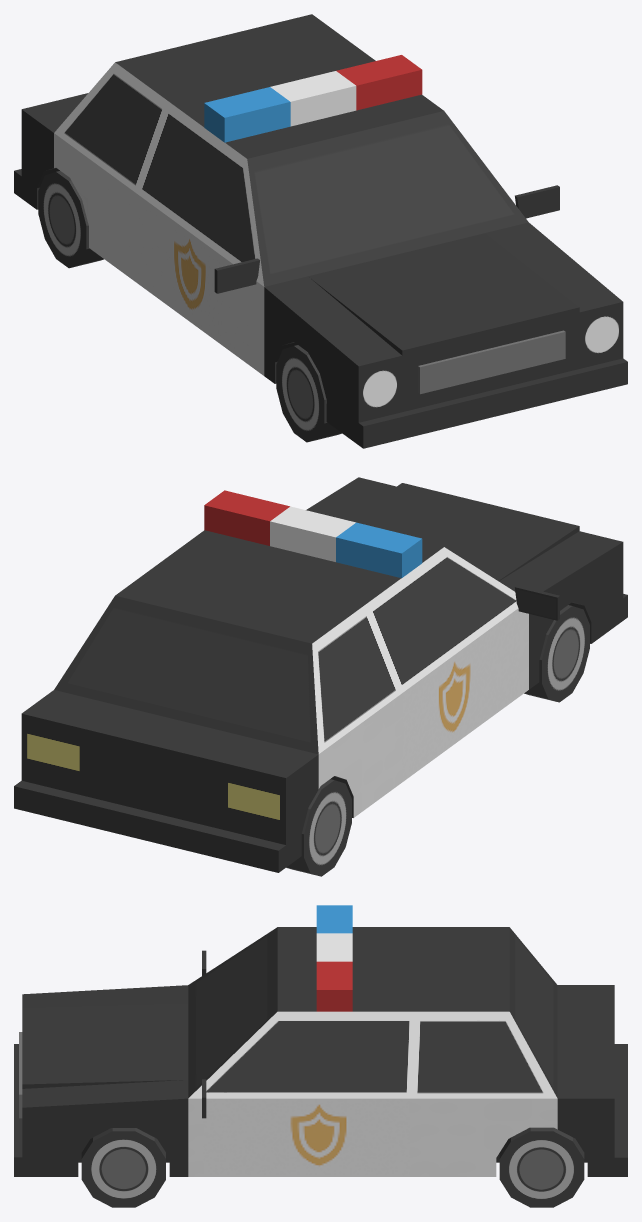
Rendered from PoliceSedan.fbx.
The picture shows the model from 3 angles, top to bottom: view 1: azimuth 30°, elevation 25°; view 2: azimuth 150°, elevation 25°; view 3: azimuth 270°, elevation 25°; orthographic projection. The views are drawn at different scales.
Visible parts, largest first — view 1: PoliceSedan; view 2: PoliceSedan; view 3: PoliceSedan.
Boxes of the visible parts, x1,y1,x2,y2 form: PoliceSedan: (14, 14, 627, 448); PoliceSedan: (14, 477, 627, 876); PoliceSedan: (14, 905, 627, 1207).
Bounding box in the file's own units: 263 × 170 × 464.
